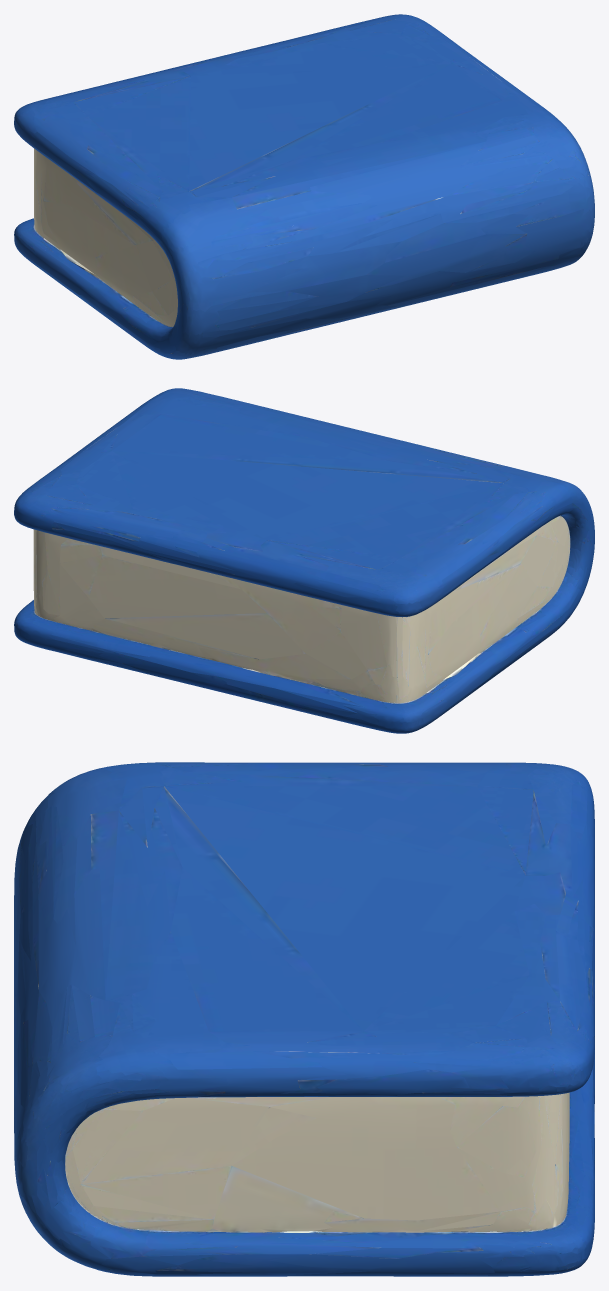
The model's file is boek.glb.
3 views of the same model, one above another, from view 1: azimuth 30°, elevation 25°; view 2: azimuth 150°, elevation 25°; view 3: azimuth 270°, elevation 25° (orthographic). The views are drawn at different scales.
Visible parts, largest first — view 1: Mesh_0; view 2: Mesh_0; view 3: Mesh_0.
Part boxes in pixels (bbox=[...]): Mesh_0: bbox=[14, 14, 594, 359]; Mesh_0: bbox=[14, 388, 594, 733]; Mesh_0: bbox=[14, 762, 594, 1276].
Size of the model in its own units: 1.9 by 0.6559 by 1.52.
1 material, 1 textured.
